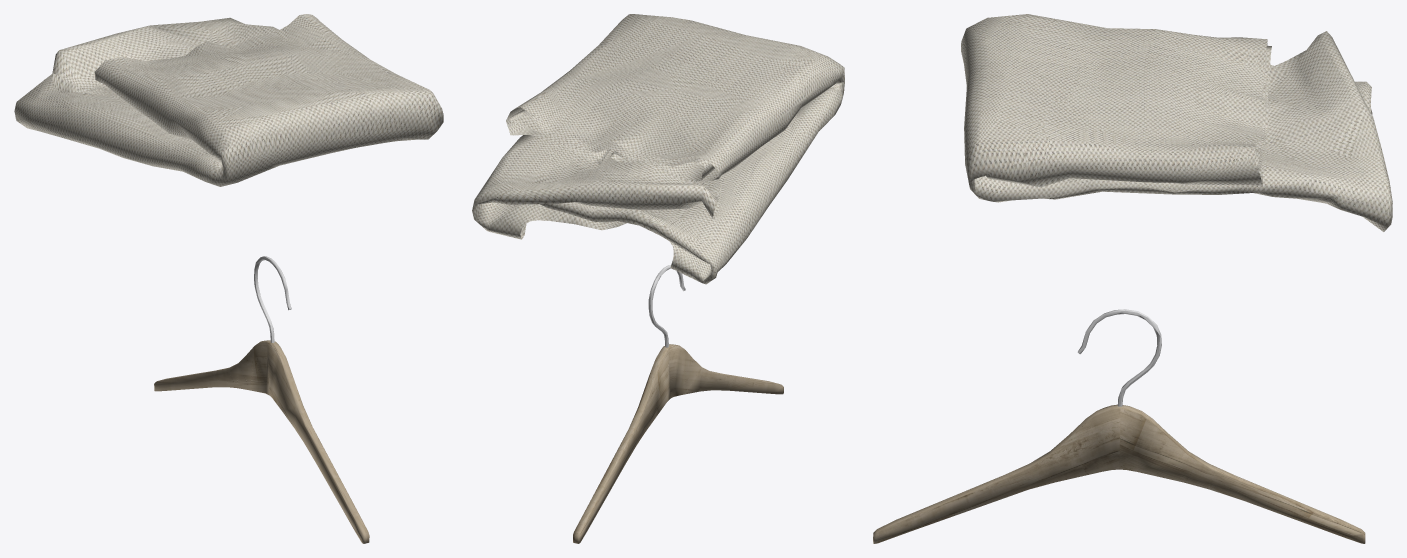
Rendered from rod-cloth4446.glb.
3 renders of one model, left to right at view 1: azimuth 30°, elevation 25°; view 2: azimuth 150°, elevation 25°; view 3: azimuth 270°, elevation 25°, orthographic. The views are drawn at different scales.
Visible parts, largest first — view 1: cloth4446.001, Hangers_for_clothes091.001; view 2: cloth4446.001, Hangers_for_clothes091.001; view 3: cloth4446.001, Hangers_for_clothes091.001.
Part boxes in pixels (x1,y1,x2,y2): cloth4446.001: [14, 14, 443, 186]; Hangers_for_clothes091.001: [154, 256, 369, 543]; cloth4446.001: [472, 14, 844, 284]; Hangers_for_clothes091.001: [573, 265, 783, 543]; cloth4446.001: [961, 14, 1392, 231]; Hangers_for_clothes091.001: [873, 309, 1365, 543].
Size of the model in its own units: 0.3171 by 0.4654 by 0.4616.
3 materials, 2 textured.
